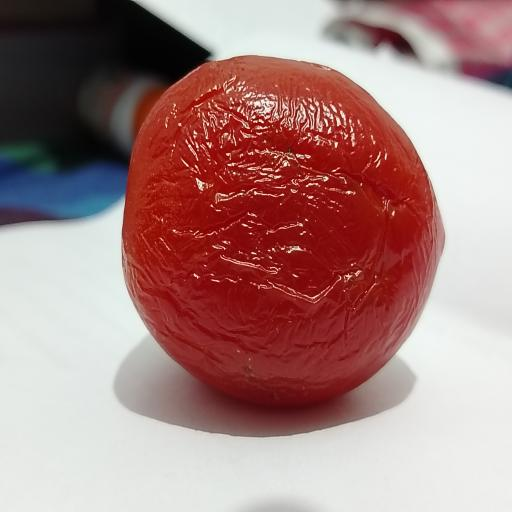spoiled: (122, 56, 444, 406)
